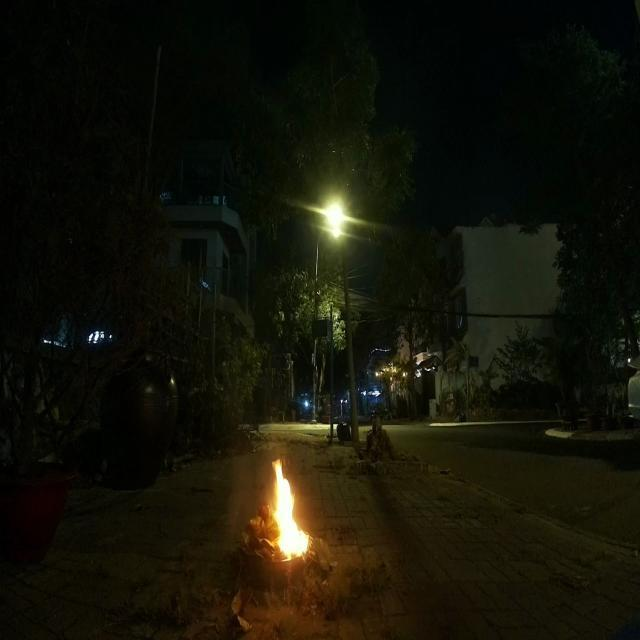Fire: (270, 452, 314, 568)
